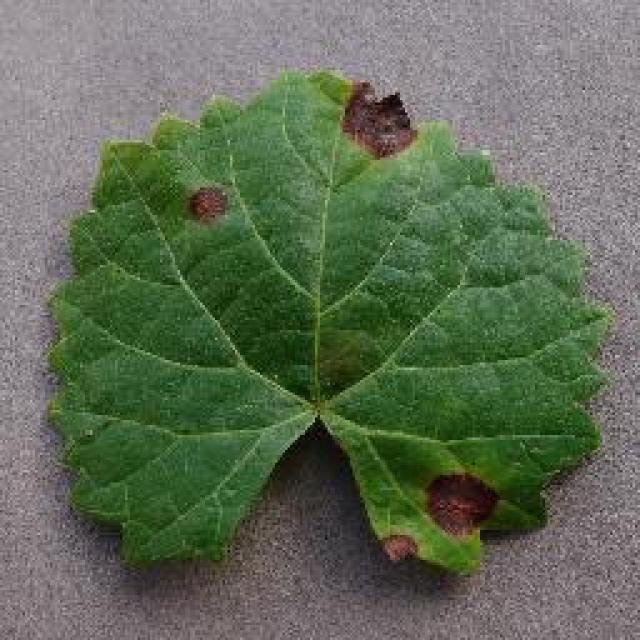Grape___Black_rot: (30, 68, 613, 577)
